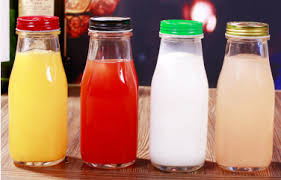milk: (148, 16, 214, 175)
